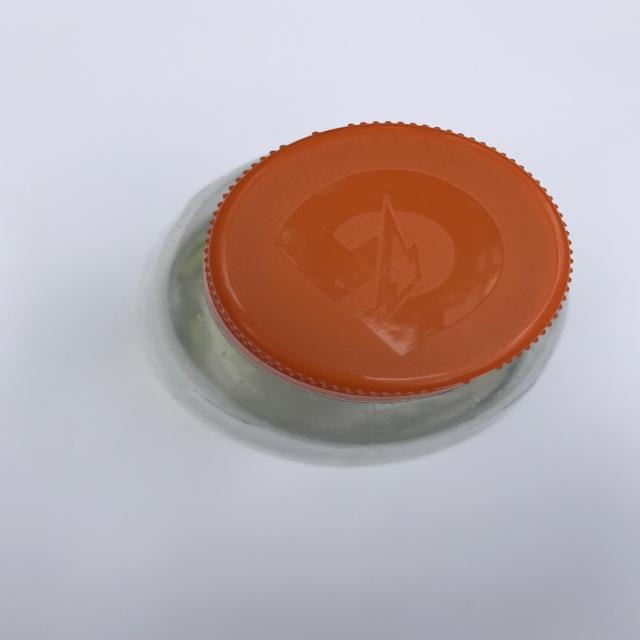plastic: (151, 120, 574, 465)
